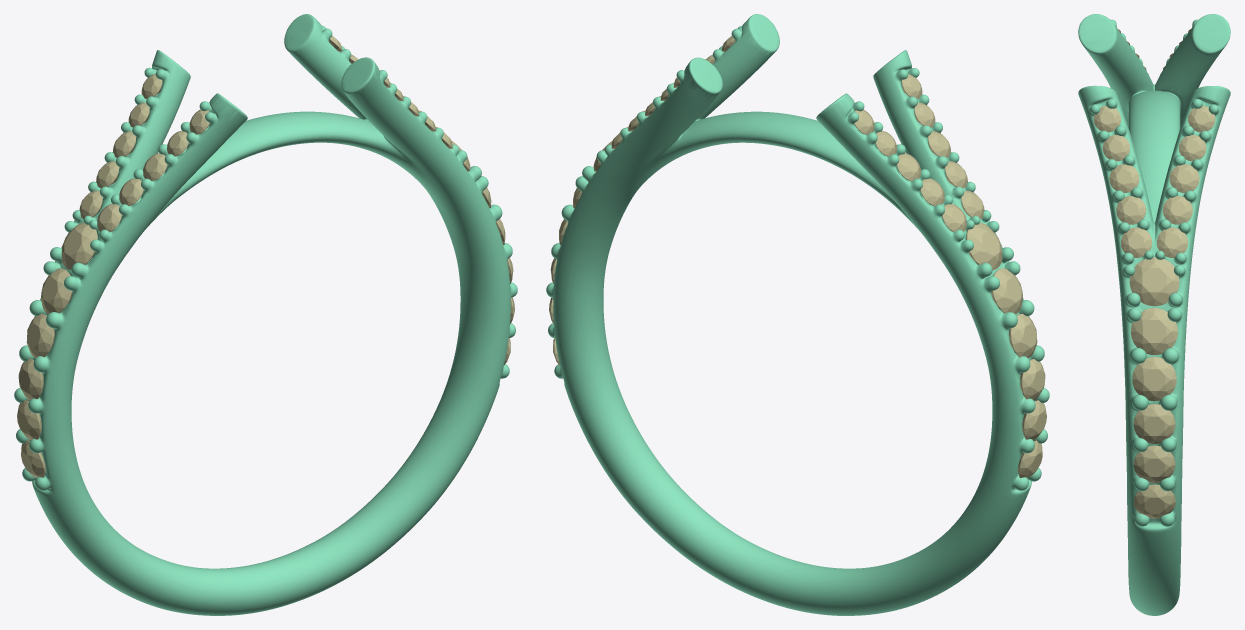
The picture shows the model from 3 angles, left to right: view 1: azimuth 30°, elevation 25°; view 2: azimuth 150°, elevation 25°; view 3: azimuth 270°, elevation 25°; orthographic projection. The views are drawn at different scales.
Visible parts, largest first — view 1: Metal02, Diamond_Gem.021, Diamond_Gem.022, Diamond_Gem.023, Diamond_Gem.024, Diamond_Gem.025; view 2: Metal02, Diamond_Gem.021, Diamond_Gem.022, Diamond_Gem.023, Diamond_Gem.024, Diamond_Gem.025; view 3: Metal02, Diamond_Gem.010, Diamond_Gem.009, Diamond_Gem.008, Diamond_Gem.007, Diamond_Gem.006, Diamond_Gem.005, Diamond_Gem.015, Diamond_Gem, Diamond_Gem.014, Diamond_Gem.001, Diamond_Gem.013 (+5 smaller).
Part boxes in pixels (x1,y1,x2,y2): Metal02: (14, 14, 517, 615); Diamond_Gem.021: (61, 222, 97, 269); Diamond_Gem.022: (41, 268, 72, 314); Diamond_Gem.023: (26, 313, 54, 358); Diamond_Gem.024: (18, 359, 43, 400); Diamond_Gem.025: (17, 400, 41, 440); Metal02: (546, 14, 1049, 615); Diamond_Gem.021: (966, 222, 1002, 270); Diamond_Gem.022: (991, 268, 1022, 314); Diamond_Gem.023: (1009, 313, 1037, 358); Diamond_Gem.024: (1020, 359, 1045, 400); Diamond_Gem.025: (1022, 400, 1046, 440); Metal02: (1078, 14, 1230, 615); Diamond_Gem.010: (1129, 257, 1179, 306); Diamond_Gem.009: (1131, 308, 1177, 355); Diamond_Gem.008: (1132, 357, 1176, 401); Diamond_Gem.007: (1133, 404, 1175, 443); Diamond_Gem.006: (1133, 445, 1175, 483); Diamond_Gem.005: (1134, 484, 1175, 518); Diamond_Gem.015: (1121, 227, 1152, 257); Diamond_Gem: (1157, 227, 1188, 257); Diamond_Gem.014: (1116, 196, 1146, 224); Diamond_Gem.001: (1162, 196, 1192, 224); Diamond_Gem.013: (1109, 164, 1139, 192).
Bounding box in the file's own units: 21.05 × 22.79 × 5.82.
